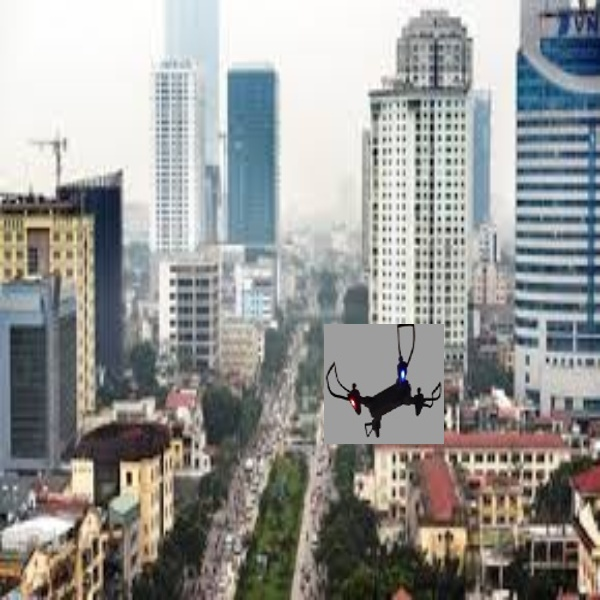drone: (330, 324, 440, 439)
